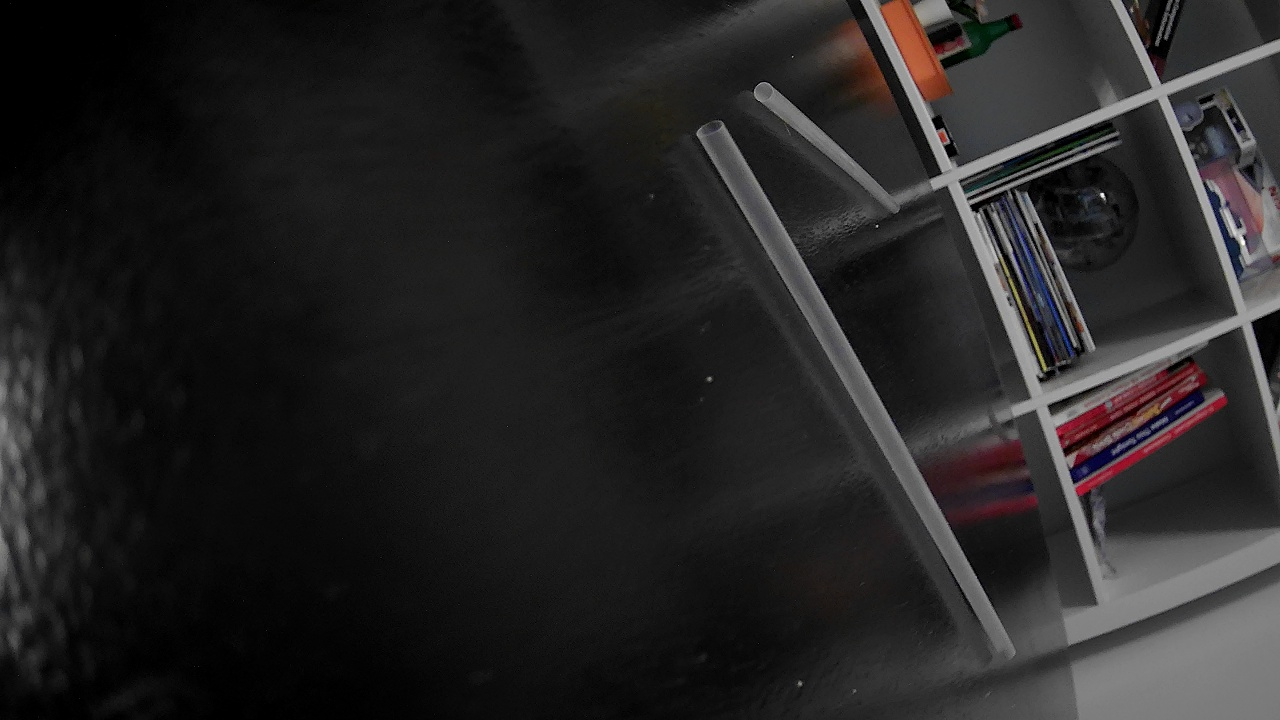trash: (698, 84, 1038, 667), (751, 60, 914, 219)
